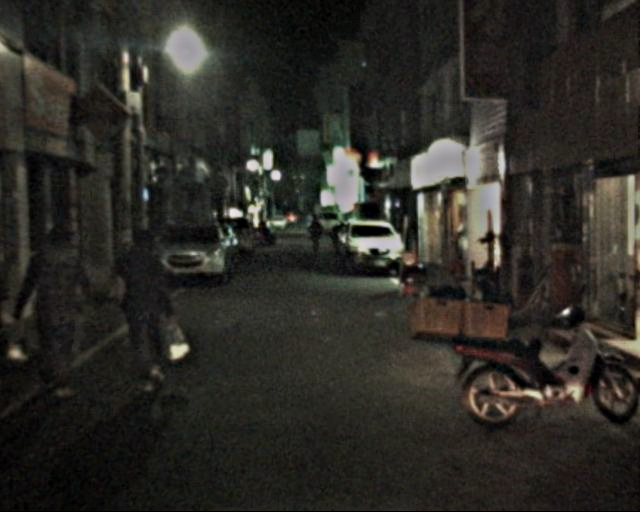person: (20, 227, 100, 400), (109, 226, 181, 395), (305, 214, 324, 258)
